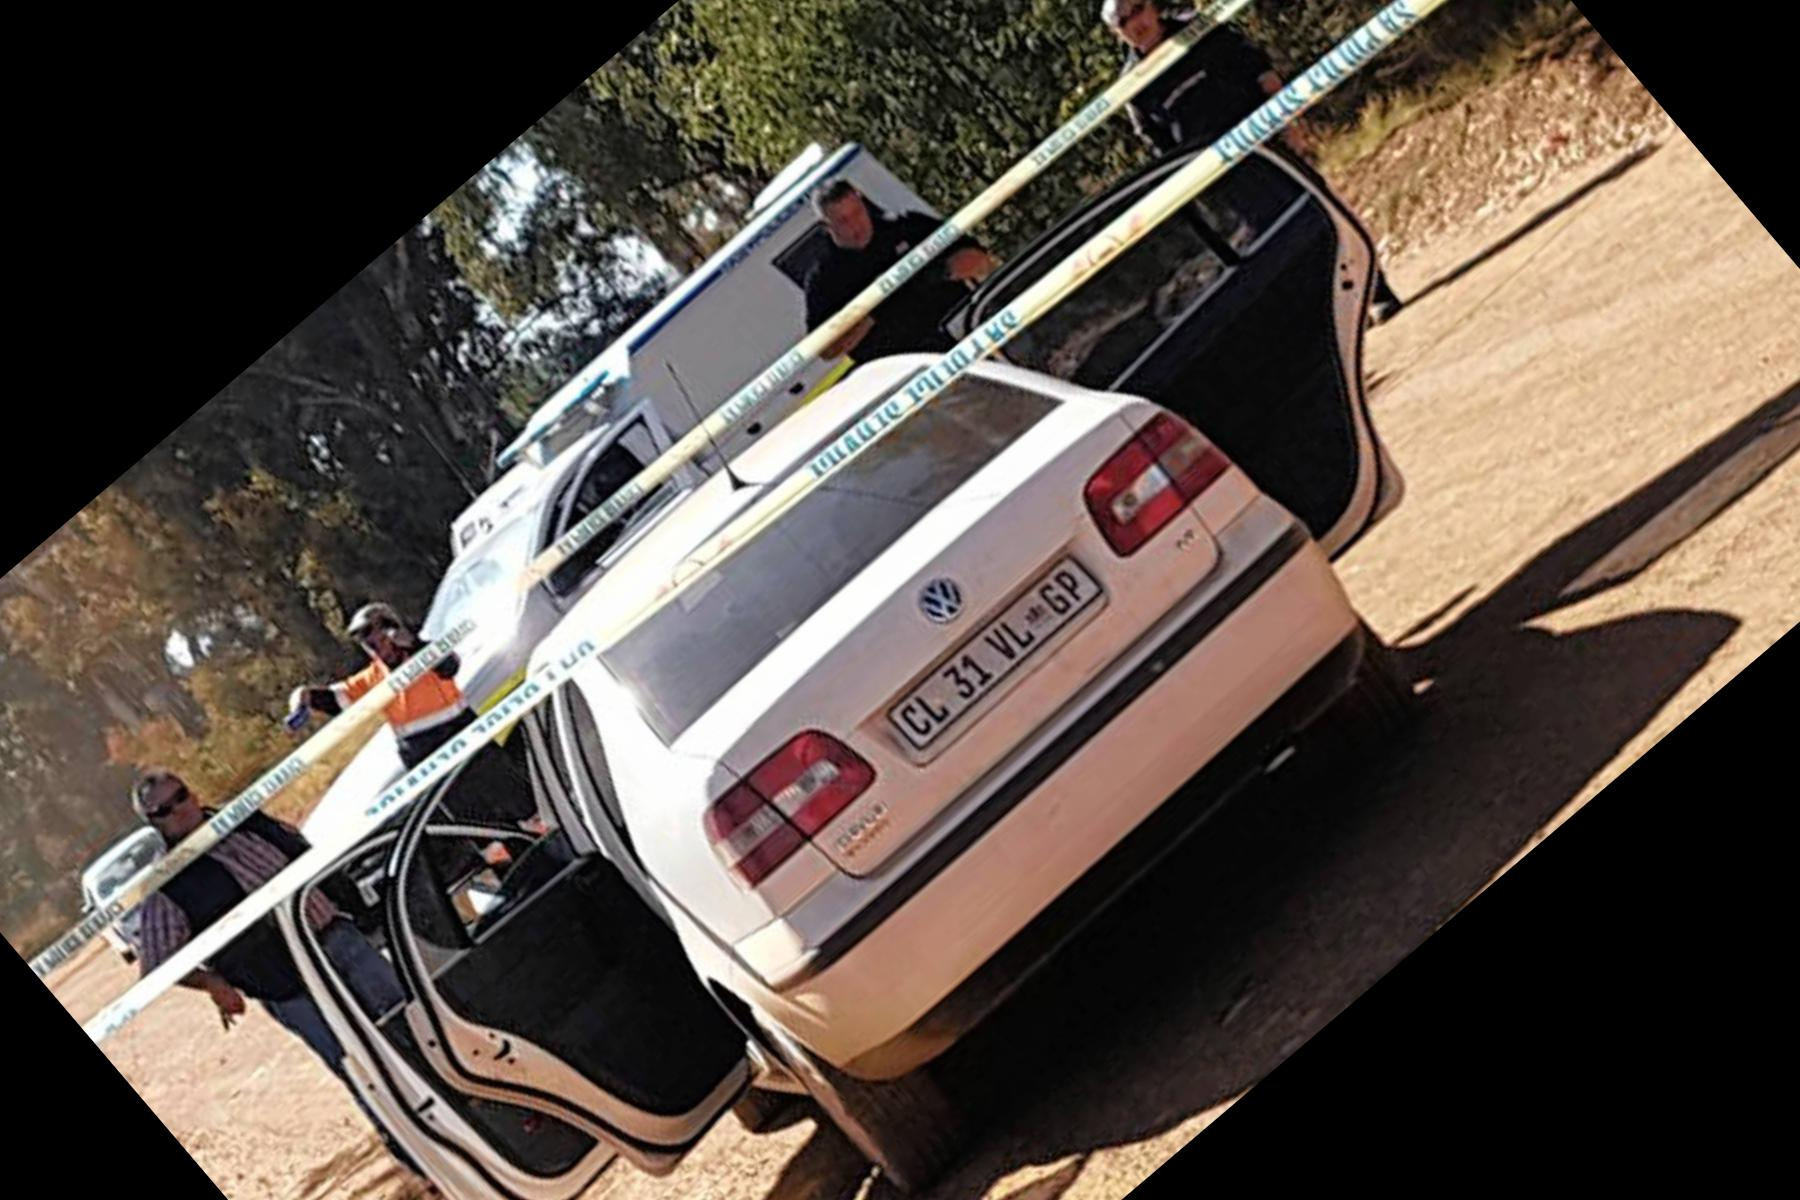plate: (844, 522, 1128, 783)
